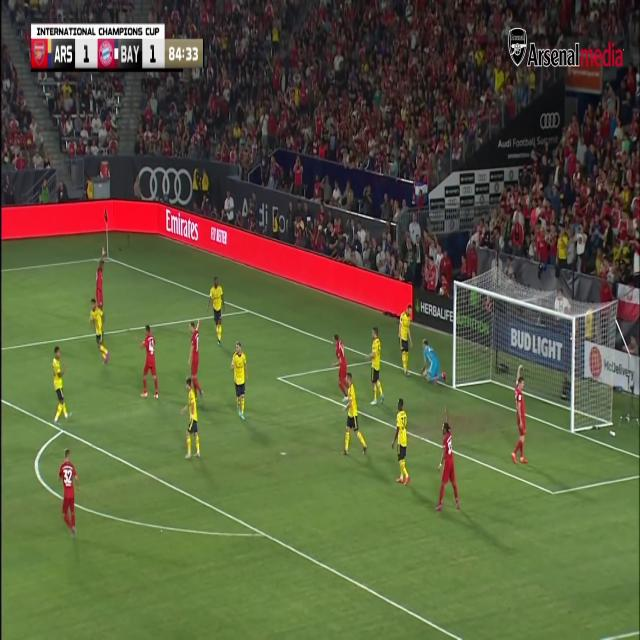Ball: (422, 367, 428, 378)
GoalKeeper: (422, 339, 444, 387)
TEAM 1: (343, 372, 367, 462), (59, 449, 79, 538), (89, 301, 112, 378), (182, 381, 200, 465), (394, 401, 411, 488), (51, 348, 70, 425), (231, 342, 249, 422), (369, 329, 384, 404), (398, 306, 414, 376), (210, 277, 226, 335)
TEAM 2: (510, 355, 534, 471), (436, 423, 462, 515), (141, 325, 161, 402), (188, 313, 205, 401), (328, 329, 349, 398), (97, 248, 107, 308)
